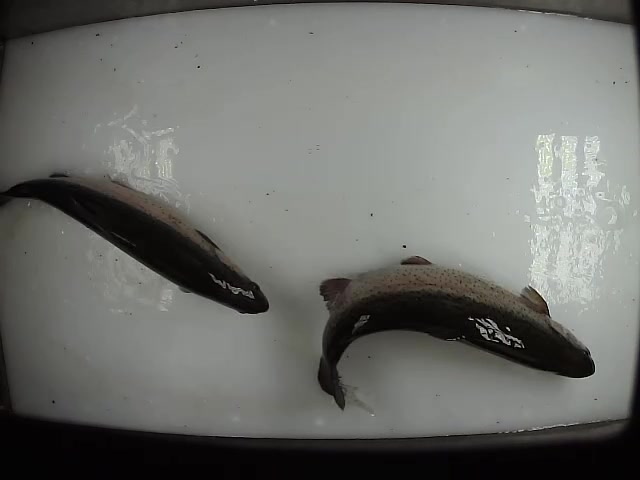fish: (308, 251, 598, 414), (4, 166, 273, 318)
